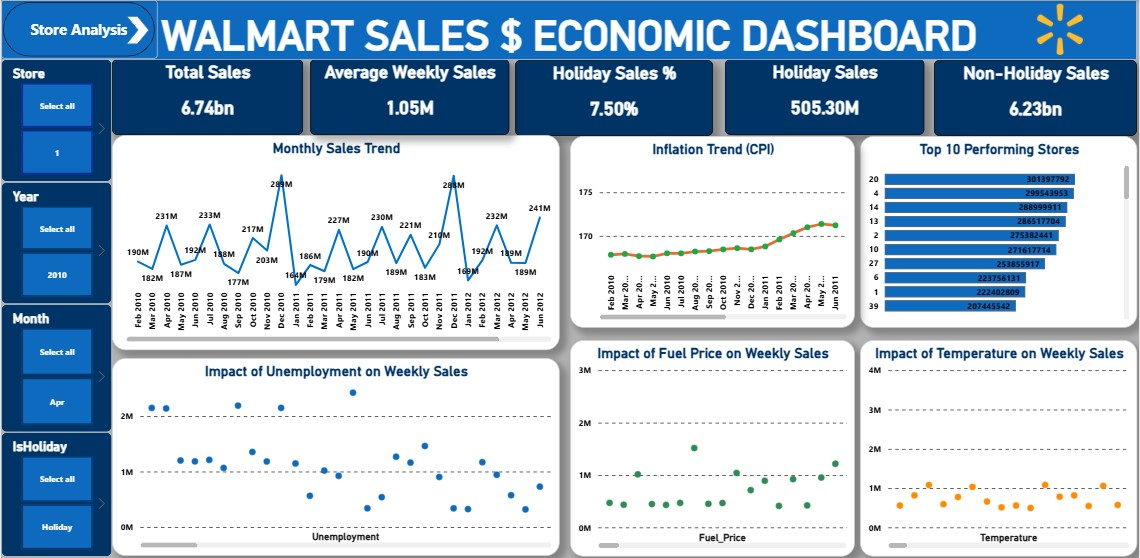

Layout of this report page (visuals, bound fields, positions):
{"tool":"powerbi","page":{"name":"Sales Overview","canvas":[1649,809],"ordinal":0},"visuals":[{"type":"card","title":"Total Sales","fields":{"Values":["Walmart.Total sales"]},"box":[160.9,85.5,276.9,110.2],"z":0},{"type":"card","title":"Holiday Sales %","fields":{"Values":["Walmart.Holiday Sales %"]},"box":[745.2,87,287.1,110.2],"z":1000},{"type":"card","title":"Holiday Sales","fields":{"Values":["Walmart.Holiday Sales"]},"box":[1049.7,85.5,288.5,110.2],"z":2000},{"type":"card","title":"Non-Holiday Sales","fields":{"Values":["Walmart.Non-Holiday Sales"]},"box":[1352.7,87,294.3,110.2],"z":3000},{"type":"lineChart","title":"Monthly Sales Trend","fields":{"Category":["Walmart.Month Year"],"Y":["Sum(Walmart.Weekly_Sales)"]},"box":[161.4,195,649,312.1],"z":4000},{"type":"barChart","title":"Top 10 Performing Stores ","fields":{"Category":["Walmart.Store"],"Y":["Walmart.Total sales"]},"box":[1244.7,196.8,402.5,278.4],"z":5000},{"type":"scatterChart","title":"Impact of Fuel Price on Weekly Sales","fields":{"X":["Walmart.Fuel_Price"],"Y":["Avg(Walmart.Weekly_Sales)"]},"box":[824.5,492.9,413.1,313.8],"z":6000},{"type":"scatterChart","title":"Impact of Temperature on Weekly Sales","fields":{"Y":["Avg(Walmart.Weekly_Sales)"],"X":["Walmart.Temperature"]},"box":[1244.7,492.9,402.5,313.8],"z":7000},{"type":"card","title":"Average Weekly Sales","fields":{"Values":["Walmart.Average Weekly Sales"]},"box":[448.6,85.1,289,109.9],"z":8000},{"type":"slicer","fields":{"Values":["Walmart.Store"]},"box":[0,85.5,160.9,178.3],"z":9000},{"type":"slicer","fields":{"Values":["Walmart.Year"]},"box":[0,263.9,160.9,176.9],"z":10000},{"type":"slicer","fields":{"Values":["Walmart.Month"]},"box":[0,440.7,160.9,185.6],"z":11000},{"type":"slicer","fields":{"Values":["Walmart.IsHoliday"]},"box":[0,626.3,160.9,181.2],"z":12000},{"type":"card","fields":{"Values":["Walmart.Dashboard Title"]},"box":[0,0,1647.2,86.9],"z":13000},{"type":"pageNavigator","box":[0,0,227,85.1],"z":14000},{"type":"shape","box":[180.9,23.1,33.7,40.8],"z":15000},{"type":"lineChart","title":"Inflation Trend (CPI)","fields":{"Category":["Walmart.Month Year"],"Y":["Avg(Walmart.CPI)"]},"box":[824.5,196.8,413.1,278.4],"z":16000},{"type":"scatterChart","title":"Impact of Unemployment on Weekly Sales","fields":{"X":["Walmart.Unemployment"],"Y":["Avg(Walmart.Weekly_Sales)"]},"box":[161.4,519.5,649,287.2],"z":17000},{"type":"image","box":[1422,0,227,85.1],"z":17001}]}

Visuals, with their boxes in screenshot pixels (x1, y1, x2, y2), scaled from the page's 1649x809 canvas onto the 1140x558 screenshot:
"Total Sales" card: (111, 59, 303, 135)
"Holiday Sales %" card: (515, 60, 714, 136)
"Holiday Sales" card: (726, 59, 925, 135)
"Non-Holiday Sales" card: (935, 60, 1139, 136)
"Monthly Sales Trend" lineChart: (112, 134, 560, 350)
"Top 10 Performing Stores " barChart: (860, 136, 1139, 328)
"Impact of Fuel Price on Weekly Sales" scatterChart: (570, 340, 856, 556)
"Impact of Temperature on Weekly Sales" scatterChart: (860, 340, 1139, 556)
"Average Weekly Sales" card: (310, 59, 510, 134)
slicer - Walmart.Store: (0, 59, 111, 182)
slicer - Walmart.Year: (0, 182, 111, 304)
slicer - Walmart.Month: (0, 304, 111, 432)
slicer - Walmart.IsHoliday: (0, 432, 111, 557)
card - Walmart.Dashboard Title: (0, 0, 1139, 60)
pageNavigator: (0, 0, 157, 59)
shape: (125, 16, 148, 44)
"Inflation Trend (CPI)" lineChart: (570, 136, 856, 328)
"Impact of Unemployment on Weekly Sales" scatterChart: (112, 358, 560, 556)
image: (983, 0, 1139, 59)
